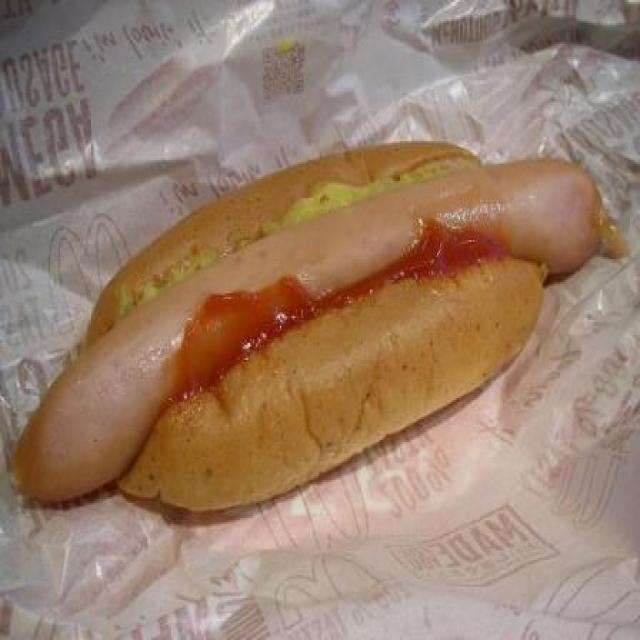Hot Dog: (1, 131, 614, 523)
